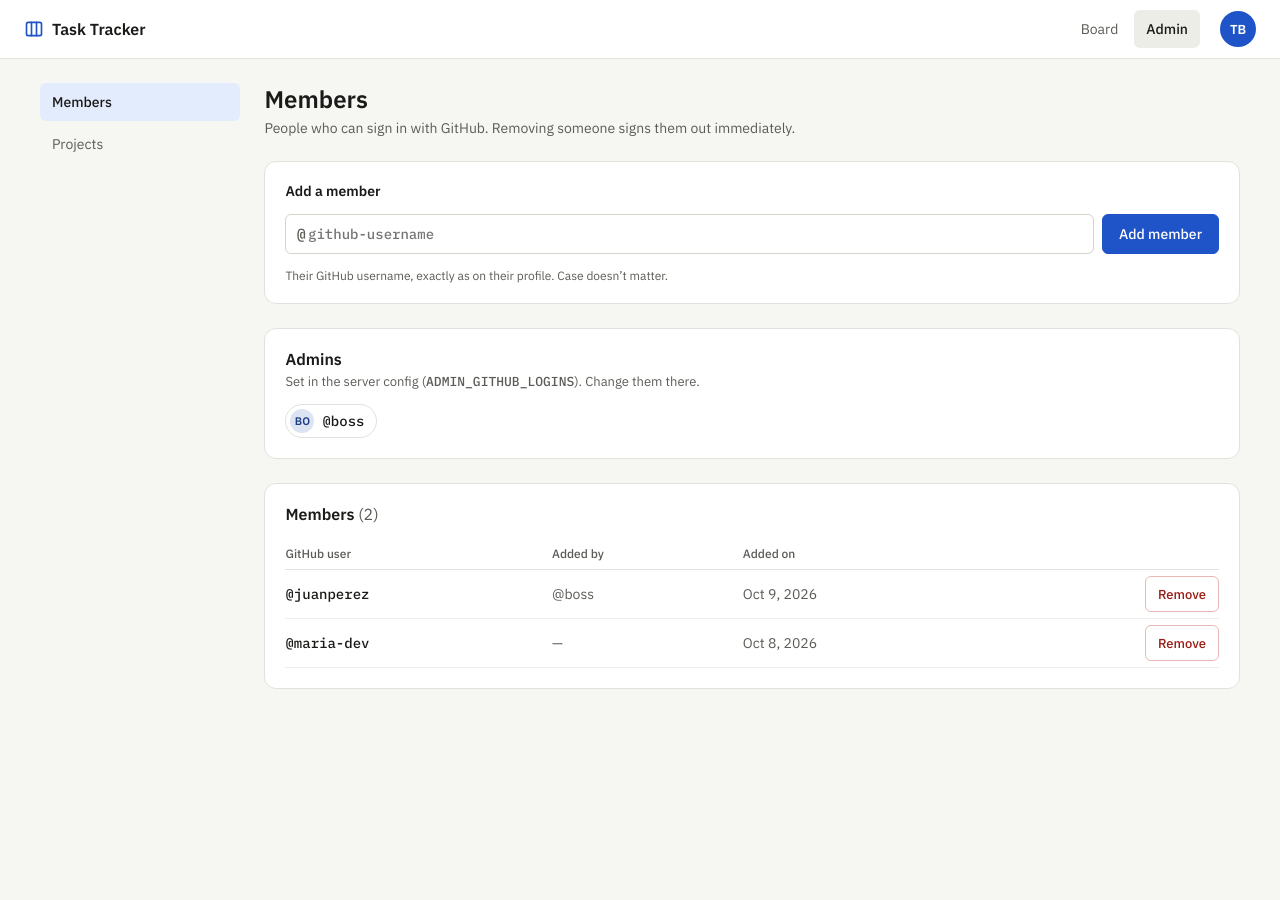
Scenario: Members › keeps the dialog open with the reason when removing fails
Click the button with aria-label "Remove @juanperez": (1182, 594) [1145,576,1219,612]
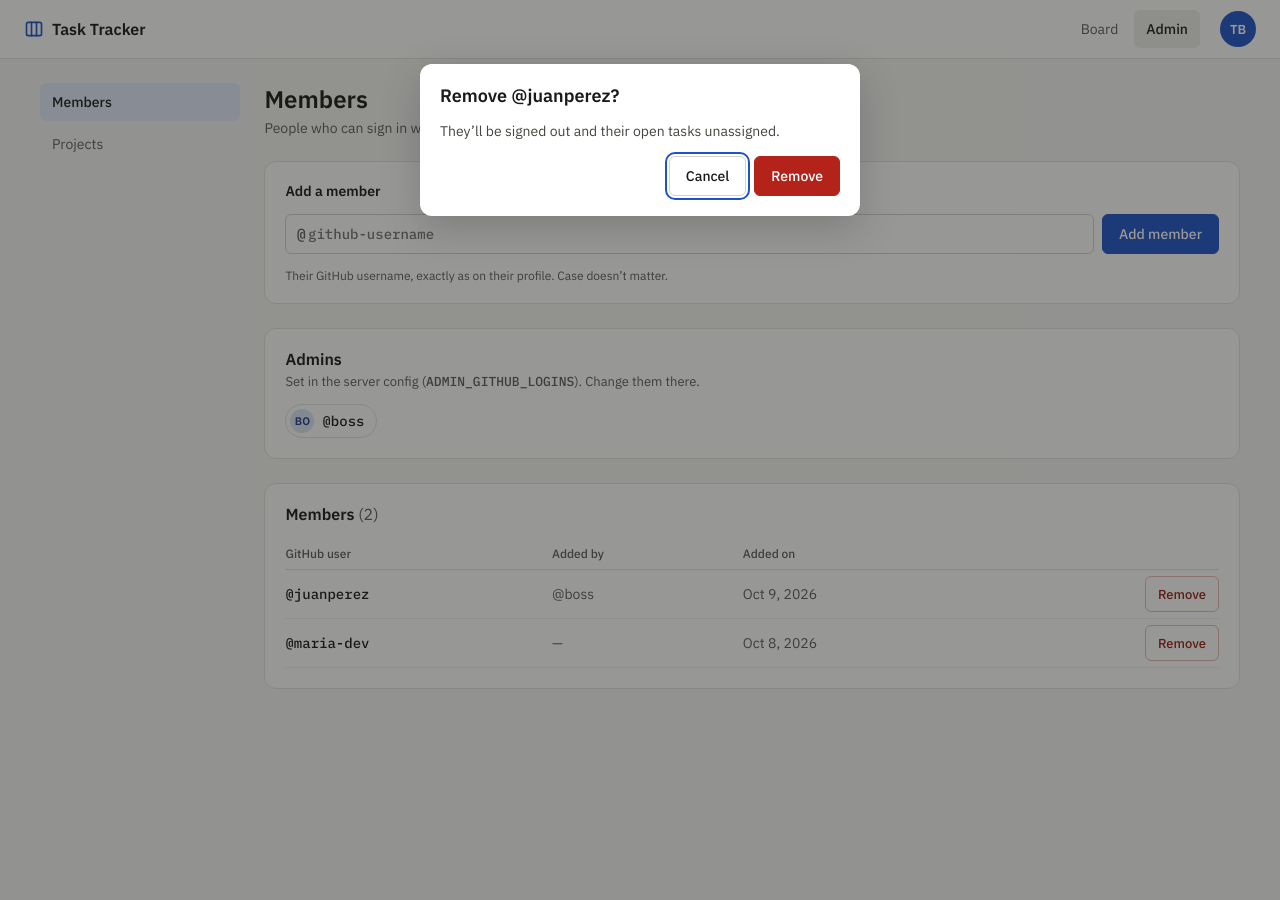
Click the button "Remove": (797, 176) [754,156,840,196]
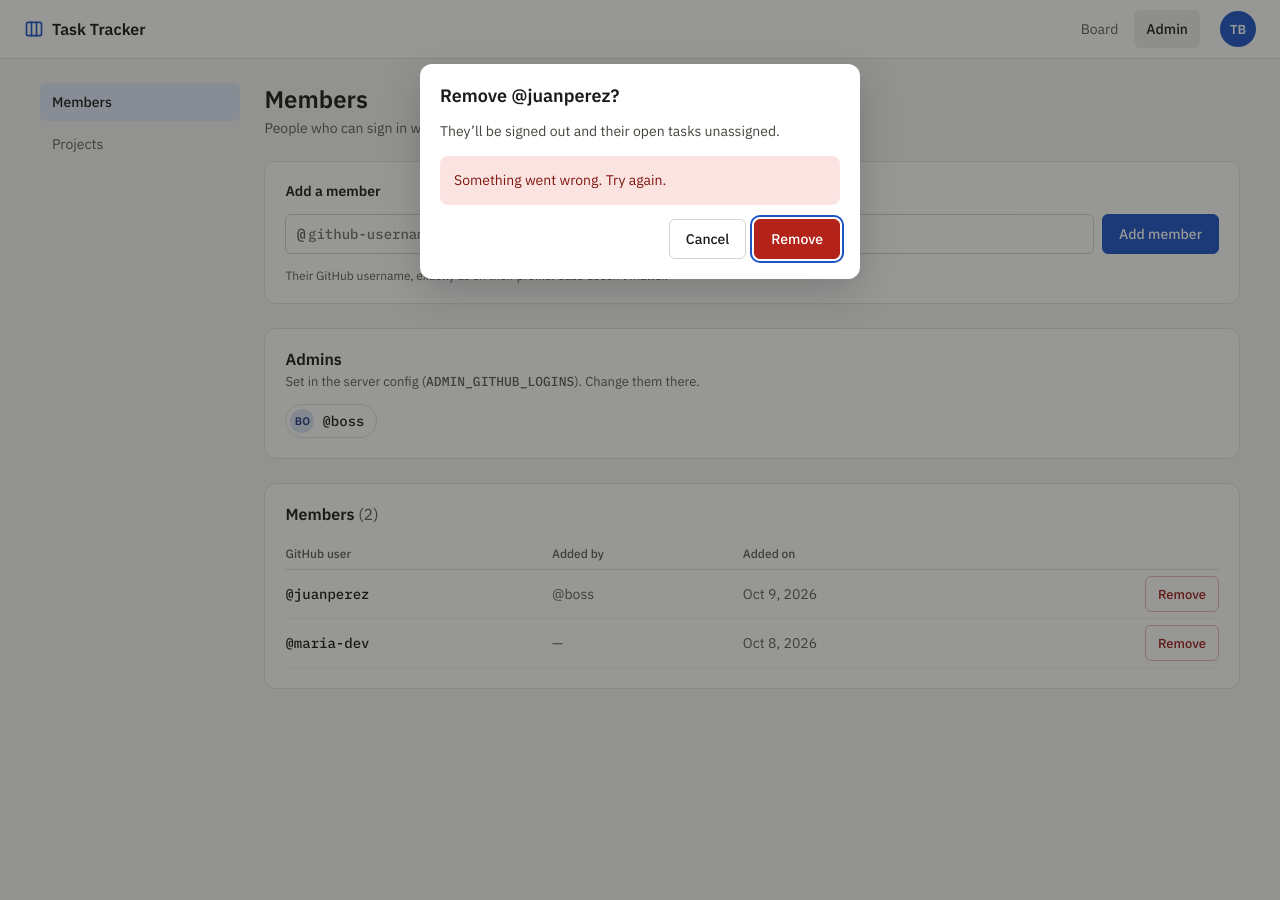
Now the message reads "Something went wrong. Try again.", box [454,171,666,189]
